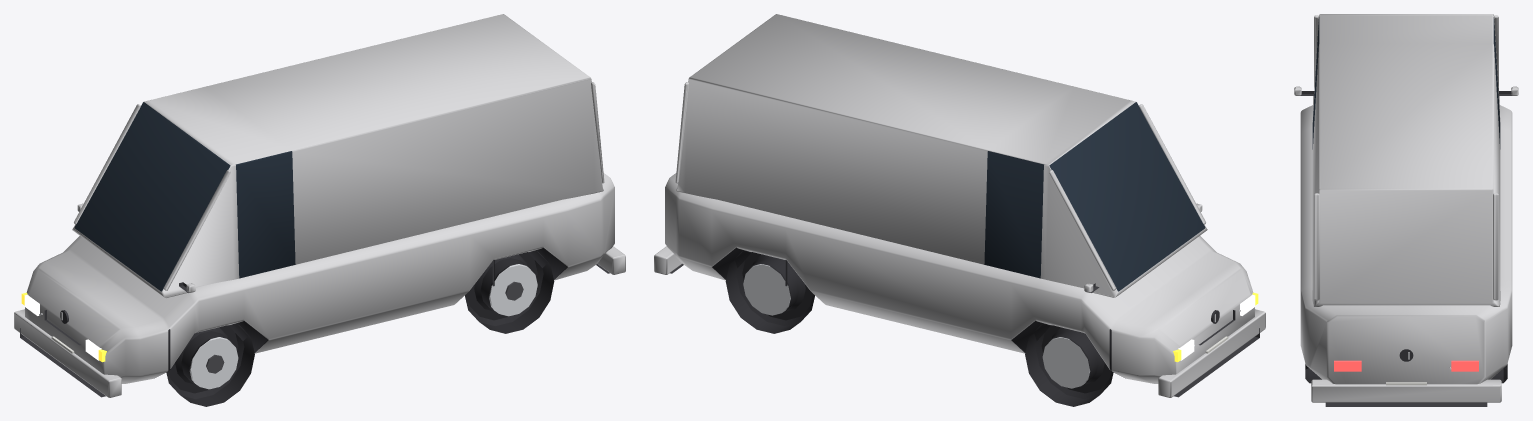
Rendered from mv_sprinter.glb.
3 renders of one model, left to right at view 1: azimuth 30°, elevation 25°; view 2: azimuth 150°, elevation 25°; view 3: azimuth 270°, elevation 25°, orthographic.
Bounding box in the file's own units: 1.9 × 0.8084 × 0.7144.
